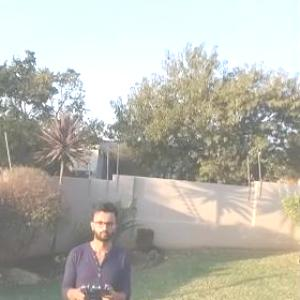follow: (57, 196, 134, 299)
